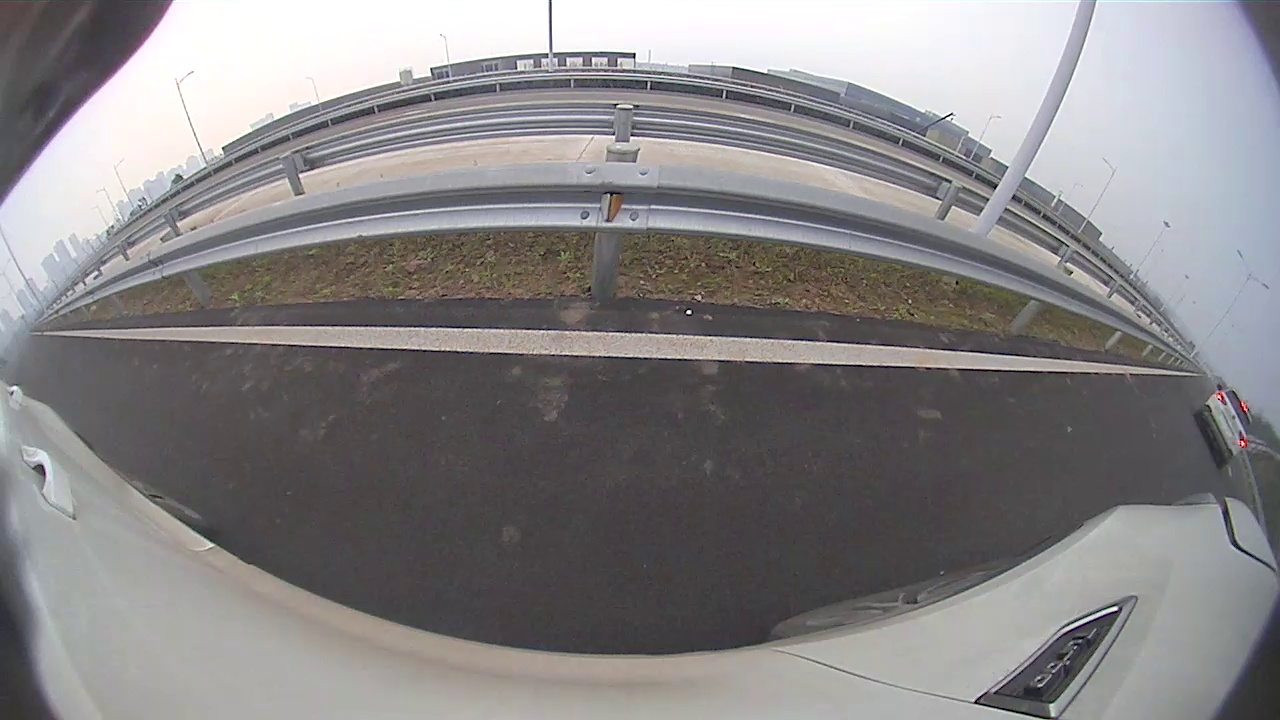car: (1192, 383, 1252, 469)
